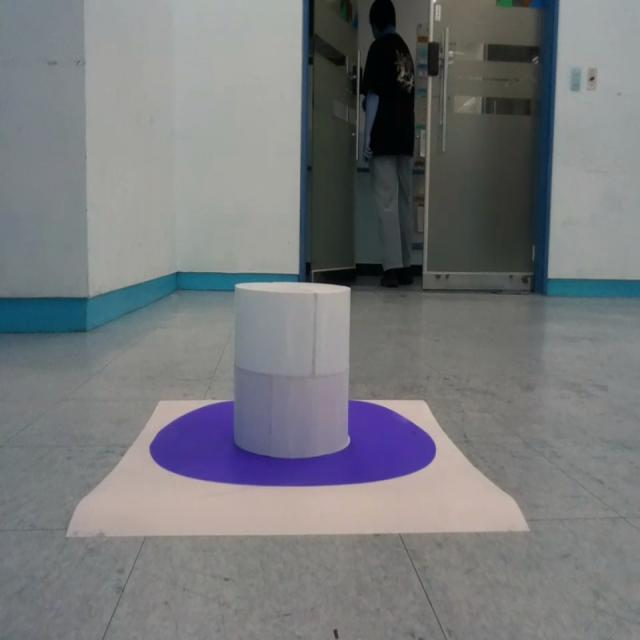cylinder: (232, 282, 351, 459)
